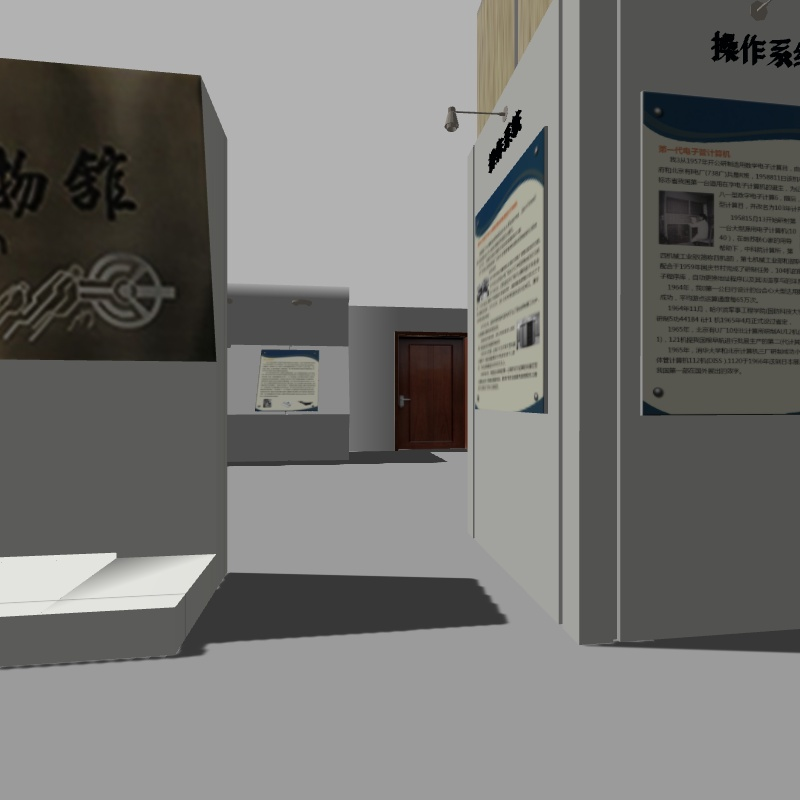handle: (394, 387, 413, 413)
